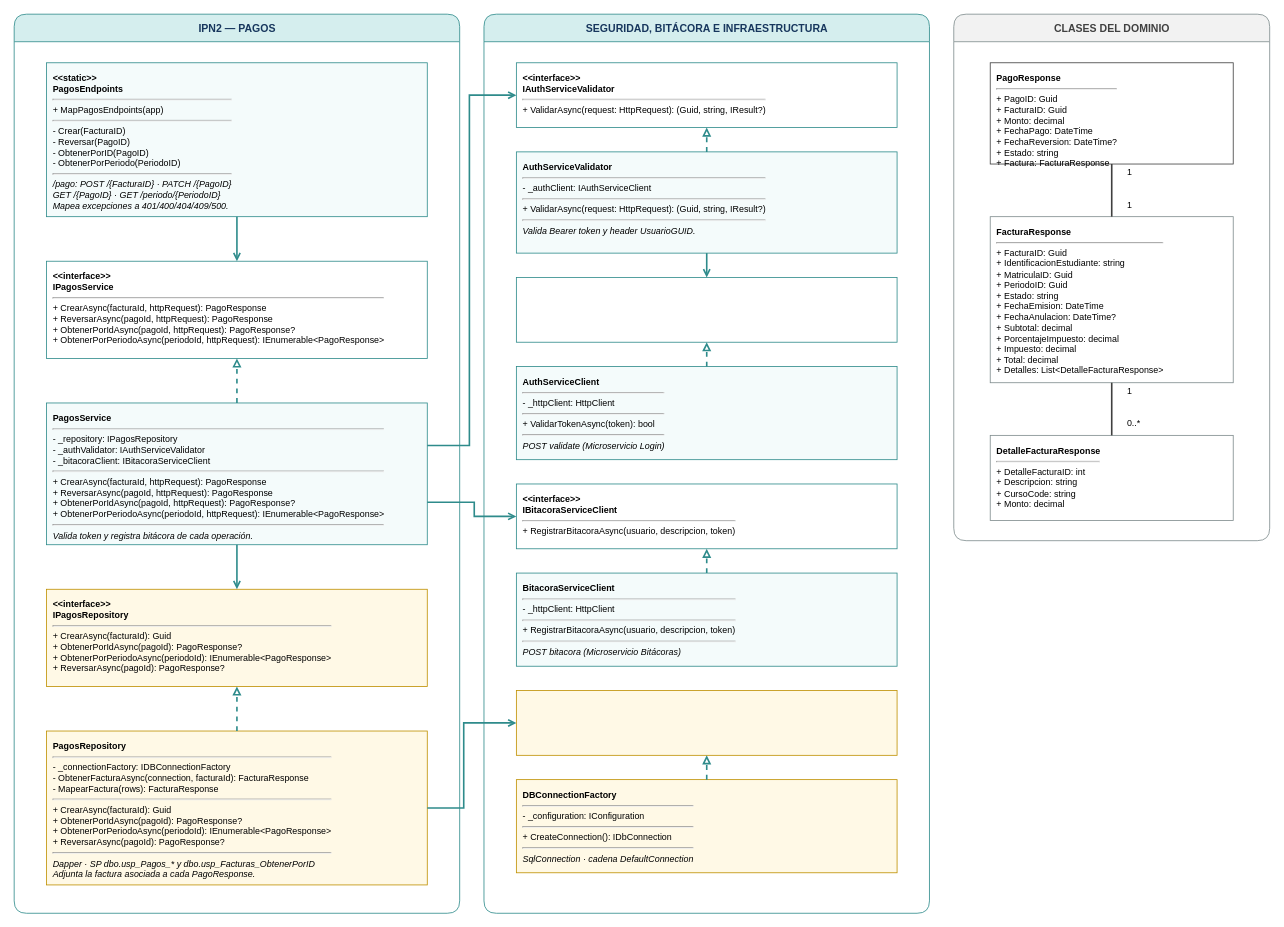
Some shapes in this 1284 by 927 pixel diagram are drawn without their labels. The shapes that lost their labels are listed below. From the top down, each one's centre as x and y in pixels, then its label:
At point (706, 309): "<<interface>> IAuthServiceClient + ValidarTokenAsync(token): bool".
At point (706, 722): "<<interface>> IDBConnectionFactory + CreateConnection(): IDbConnection".
